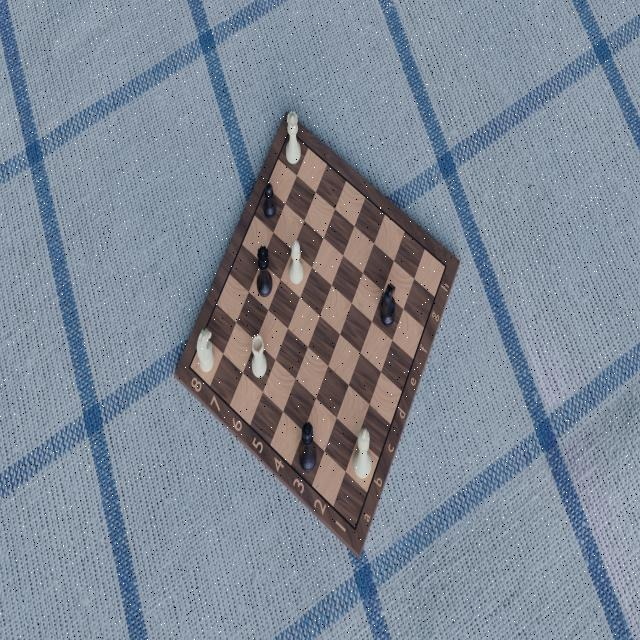black-king: (299, 420, 319, 475)
black-knight: (378, 281, 397, 329)
black-pawn: (262, 180, 278, 220)
black-queen: (256, 242, 274, 300)
white-bishop: (287, 237, 305, 286)
white-king: (353, 425, 373, 483)
white-knight: (196, 325, 216, 375)
white-queen: (283, 109, 303, 167)
white-rook: (249, 332, 269, 379)
